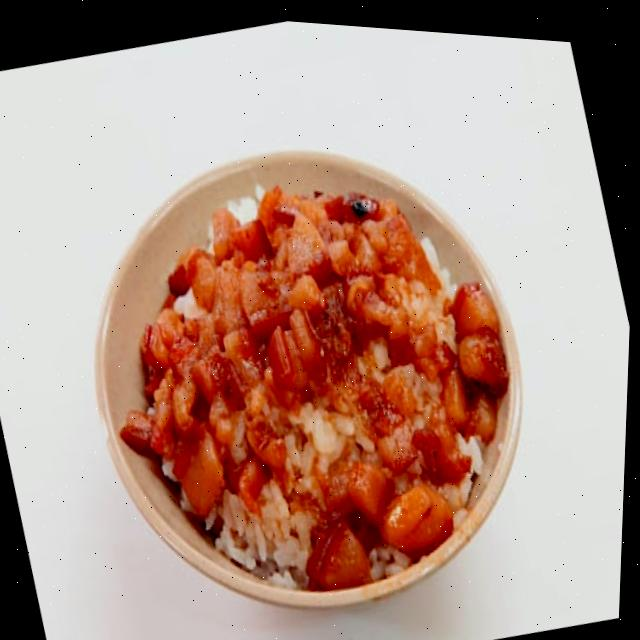猪肉菜式: (16, 50, 613, 640)
